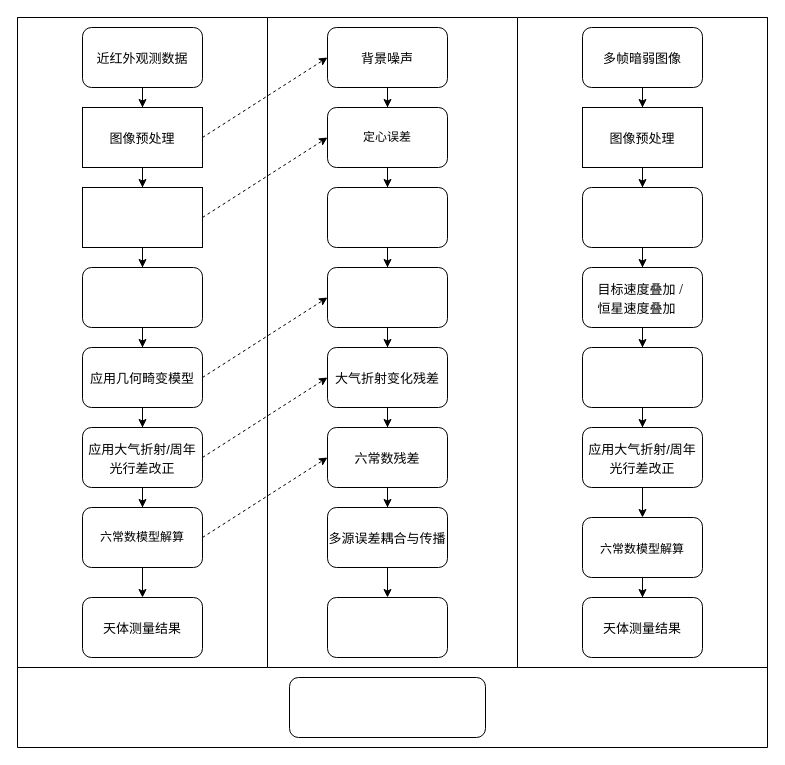
Image size: 785x765. Some labels were removed from this diagram. The shapes that lost their labels are listed below. From the top down, each one's box as (x1, y1, x2, y2) in pixels, then its label:
(82, 186, 202, 248): 星像定心与测光
(326, 186, 448, 248): 插值与重采样误差
(582, 186, 702, 248): 应用几何畸变模型
(82, 266, 202, 328): 单帧 WCS 解算/ 目标识别
(326, 266, 448, 328): 几何畸变残差
(582, 346, 702, 408): 叠加后定心
(326, 596, 448, 658): 天体测量误差 分析结果
(288, 676, 486, 738): 为历表提供天体测量观测资料 (位置 + 时间 + 精度评估)
